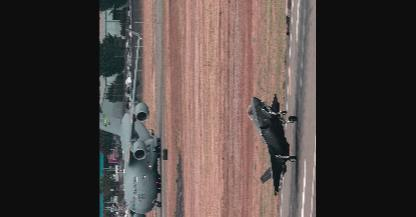C2: (99, 27, 162, 215)
F22: (246, 91, 296, 195)
